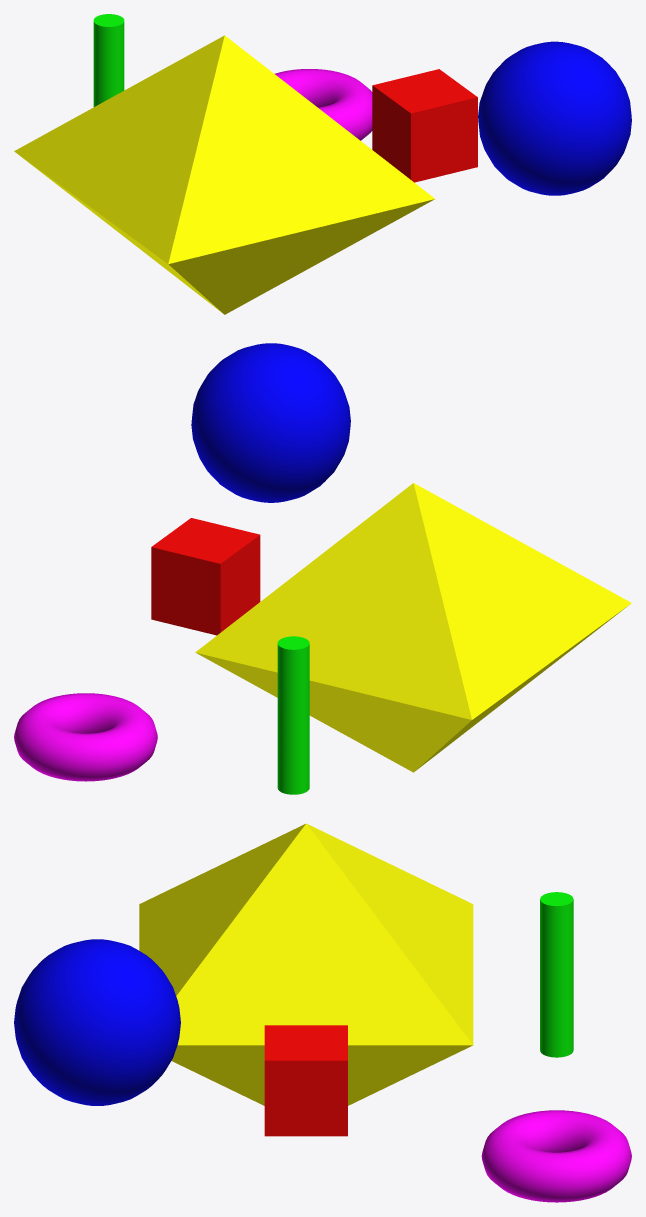
Rendered from primitives3.glb.
3 renders of one model, top to bottom at view 1: azimuth 30°, elevation 25°; view 2: azimuth 150°, elevation 25°; view 3: azimuth 270°, elevation 25°, orthographic. The views are drawn at different scales.
Visible parts, largest first — view 1: Cube.004, Sphere.003, Cube.005, Torus.001, Cylinder.001; view 2: Cube.004, Sphere.003, Cube.005, Torus.001, Cylinder.001; view 3: Cube.004, Sphere.003, Torus.001, Cube.005, Cylinder.001.
Part boxes in pixels (x1,y1,x2,y2): Cube.004: [14, 35, 434, 314]; Sphere.003: [478, 41, 631, 195]; Cube.005: [372, 69, 477, 182]; Torus.001: [274, 69, 372, 140]; Cylinder.001: [93, 14, 124, 106]; Cube.004: [195, 483, 631, 772]; Sphere.003: [191, 343, 350, 502]; Cube.005: [151, 518, 260, 635]; Torus.001: [14, 693, 157, 781]; Cylinder.001: [277, 636, 309, 794]; Cube.004: [139, 823, 473, 1105]; Sphere.003: [14, 939, 180, 1105]; Torus.001: [481, 1110, 631, 1202]; Cube.005: [264, 1025, 347, 1136]; Cylinder.001: [540, 892, 573, 1057].
Bounding box in the file's own units: 6.5 × 4 × 7.4.
